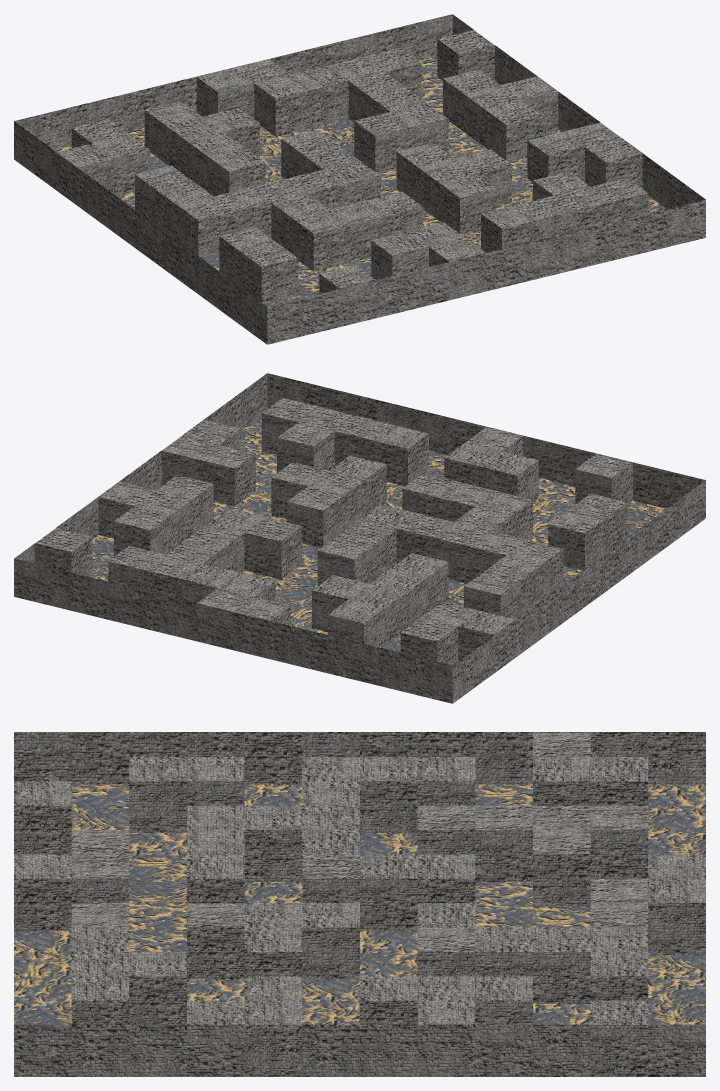
File: Tanah3.fbx
3 views of the same model, one above another, from view 1: azimuth 30°, elevation 25°; view 2: azimuth 150°, elevation 25°; view 3: azimuth 270°, elevation 25° (orthographic). The views are drawn at different scales.
Parts seen in each view (by area): view 1: Plane.002, Plane; view 2: Plane.002, Plane; view 3: Plane.002, Plane.
Boxes of the visible parts, left/top/right/bottom form: Plane.002: left=14, top=14, right=705, bottom=344; Plane: left=53, top=56, right=666, bottom=306; Plane.002: left=14, top=373, right=705, bottom=703; Plane: left=90, top=416, right=666, bottom=652; Plane.002: left=14, top=732, right=705, bottom=1076; Plane: left=14, top=784, right=705, bottom=1024.
Bounding box in the file's own units: 6813 × 568 × 6813.
2 materials, 2 textured.
